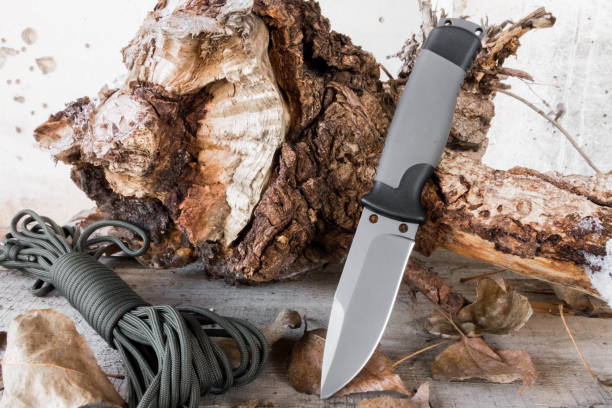knife: (317, 15, 488, 401)
